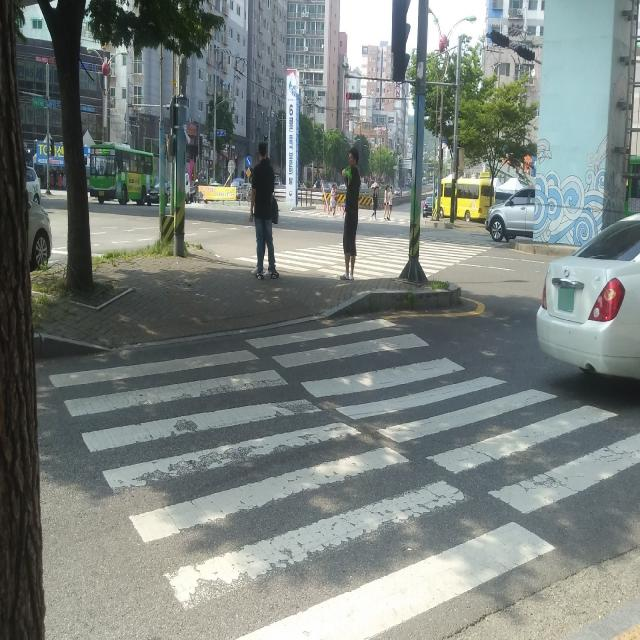횡단보도: (49, 317, 640, 639), (243, 228, 494, 278)
